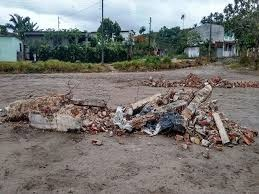rubble: (7, 90, 246, 144)
